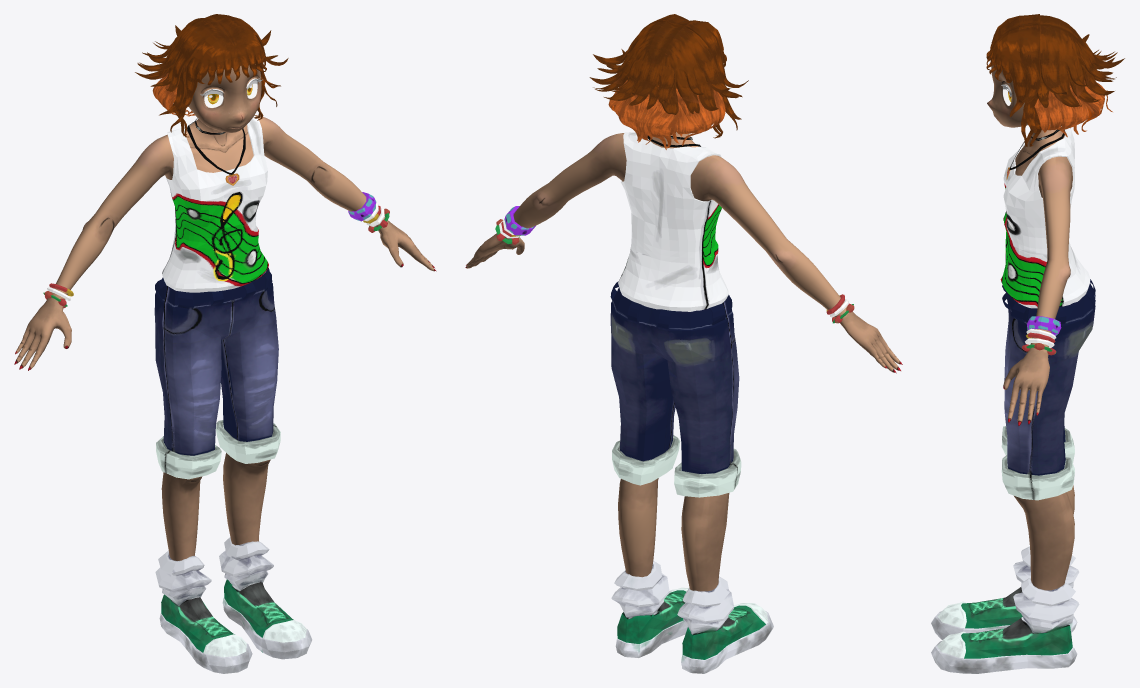
Rendered from panela.glb.
3 renders of one model, left to right at view 1: azimuth 30°, elevation 25°; view 2: azimuth 150°, elevation 25°; view 3: azimuth 270°, elevation 25°, orthographic. The views are drawn at different scales.
Visible parts, largest first — view 1: Cuerpo, Circle.006, Camiseta, Zapatos, Cube, Base; view 2: Circle.006, Cuerpo, Camiseta, Base, Zapatos, Cube; view 3: Cuerpo, Zapatos, Circle.006, Camiseta, Base, Cube, Torus.004.
Part boxes in pixels (x1,y1,x2,y2): Cuerpo: (14,64,436,560); Circle.006: (154,268,280,479); Camiseta: (162,116,268,292); Zapatos: (155,537,312,673); Cube: (159,17,288,137); Base: (135,14,277,116); Circle.006: (610,281,741,497); Cuerpo: (465,132,902,591); Camiseta: (618,132,728,311); Base: (589,22,738,149); Zapatos: (611,560,773,673); Cube: (616,14,748,138); Cuerpo: (987,65,1074,590); Zapatos: (931,546,1079,673); Circle.006: (1001,279,1095,500); Camiseta: (1000,126,1090,308); Base: (1034,15,1124,137); Cube: (986,14,1041,146); Torus.004: (1027,316,1061,335).
Bounding box in the file's own units: 0.8213 × 1.15 × 0.3234.
17 materials, 13 textured.
